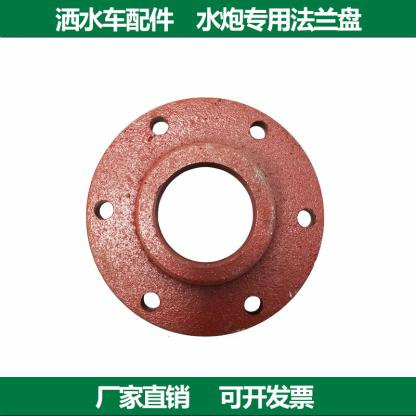FOD: (84, 86, 329, 344)
